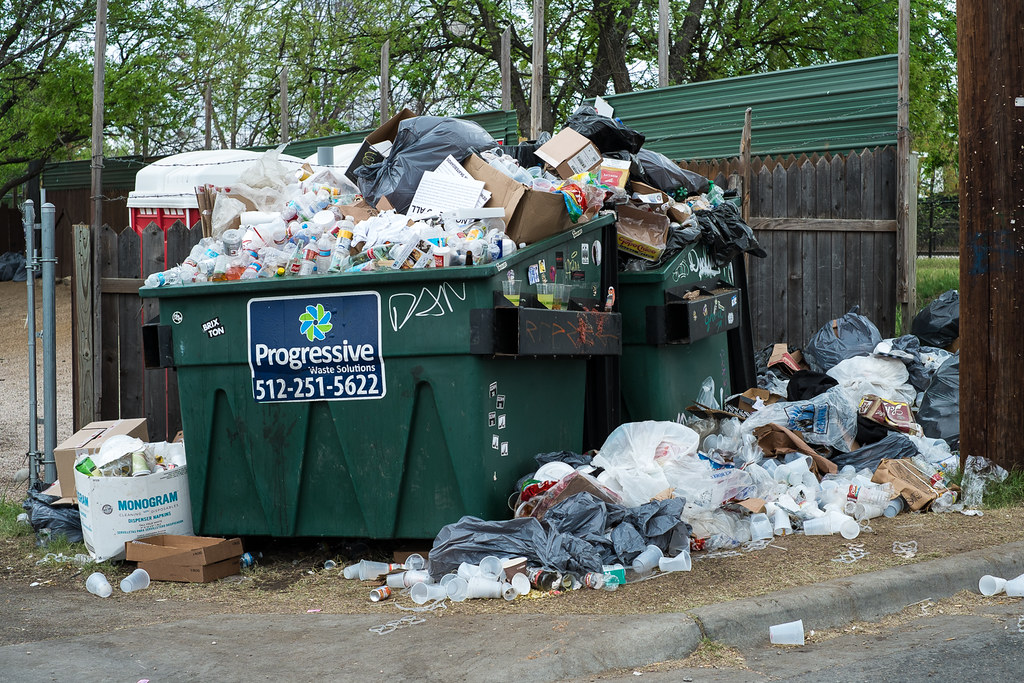Dumpster: (157, 186, 618, 551), (601, 180, 756, 439)
